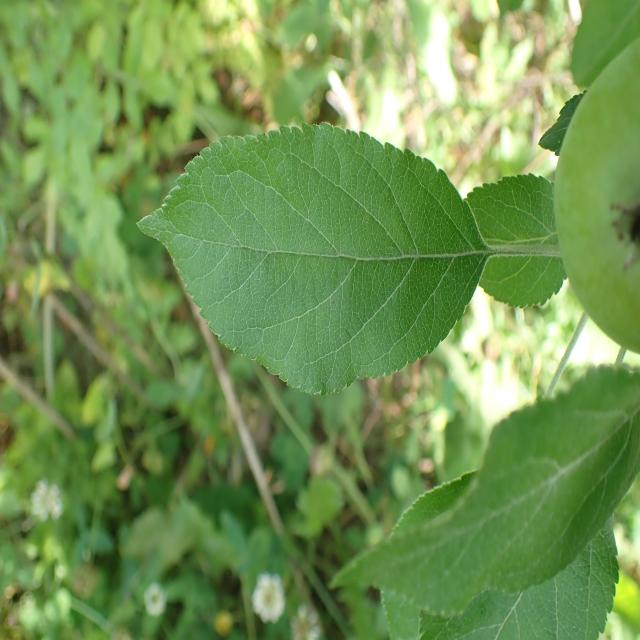healthy: (134, 121, 488, 398), (331, 367, 639, 636), (554, 38, 640, 356), (418, 521, 620, 640), (464, 173, 566, 310)
